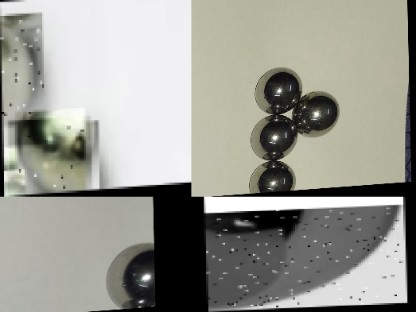ironball: (204, 205, 406, 311), (7, 114, 91, 196), (0, 11, 44, 145), (104, 241, 158, 306), (247, 66, 299, 113), (291, 88, 339, 135), (246, 115, 293, 156), (248, 158, 296, 193), (2, 167, 24, 196)
